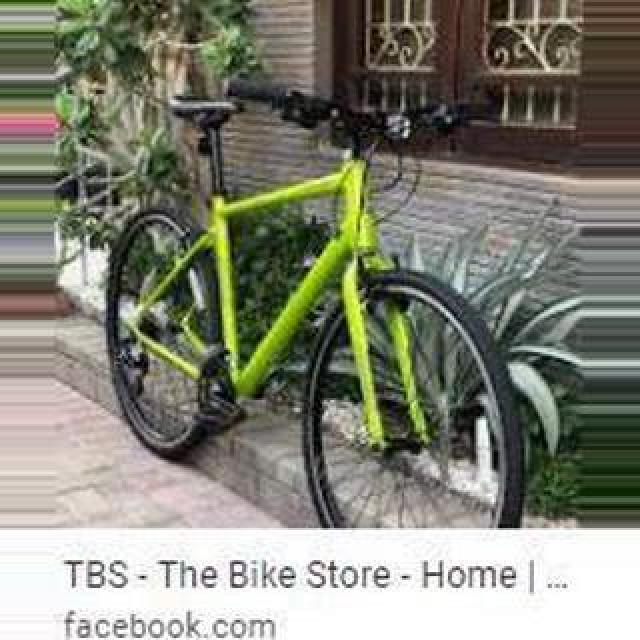Person: (99, 82, 527, 532)
